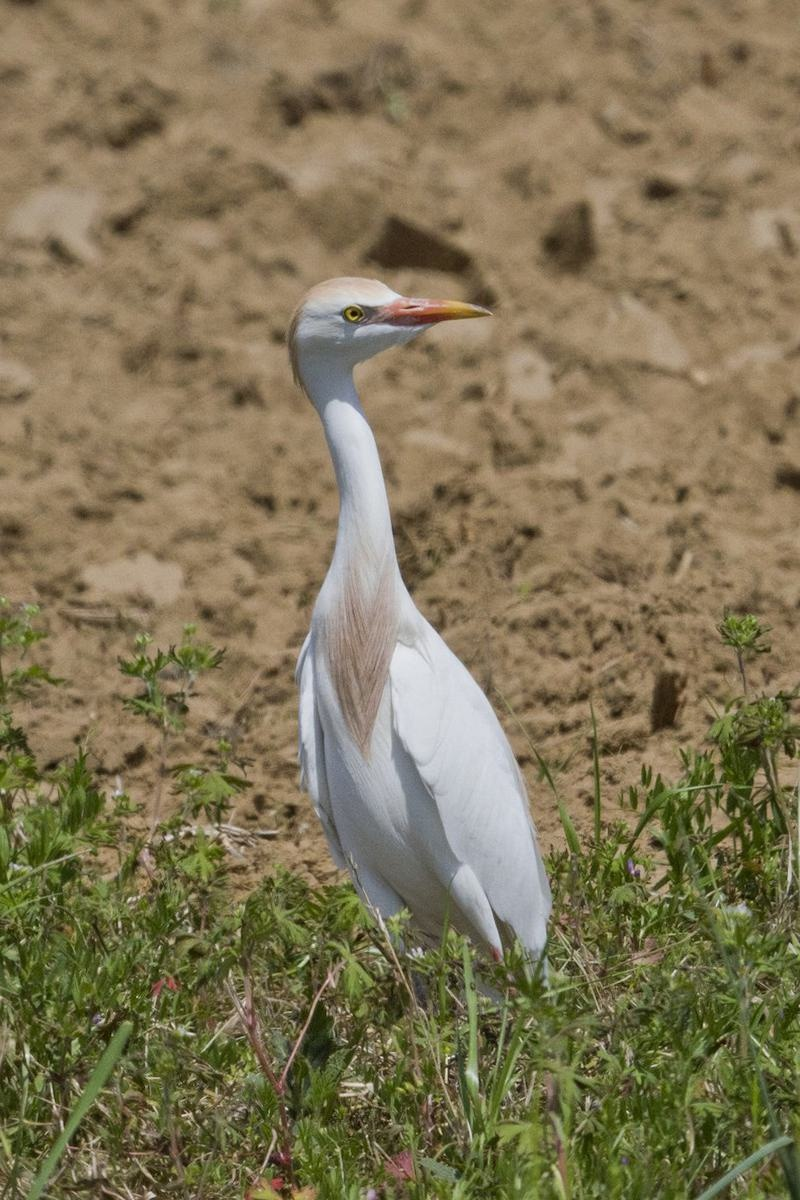egret: (268, 251, 619, 1013)
